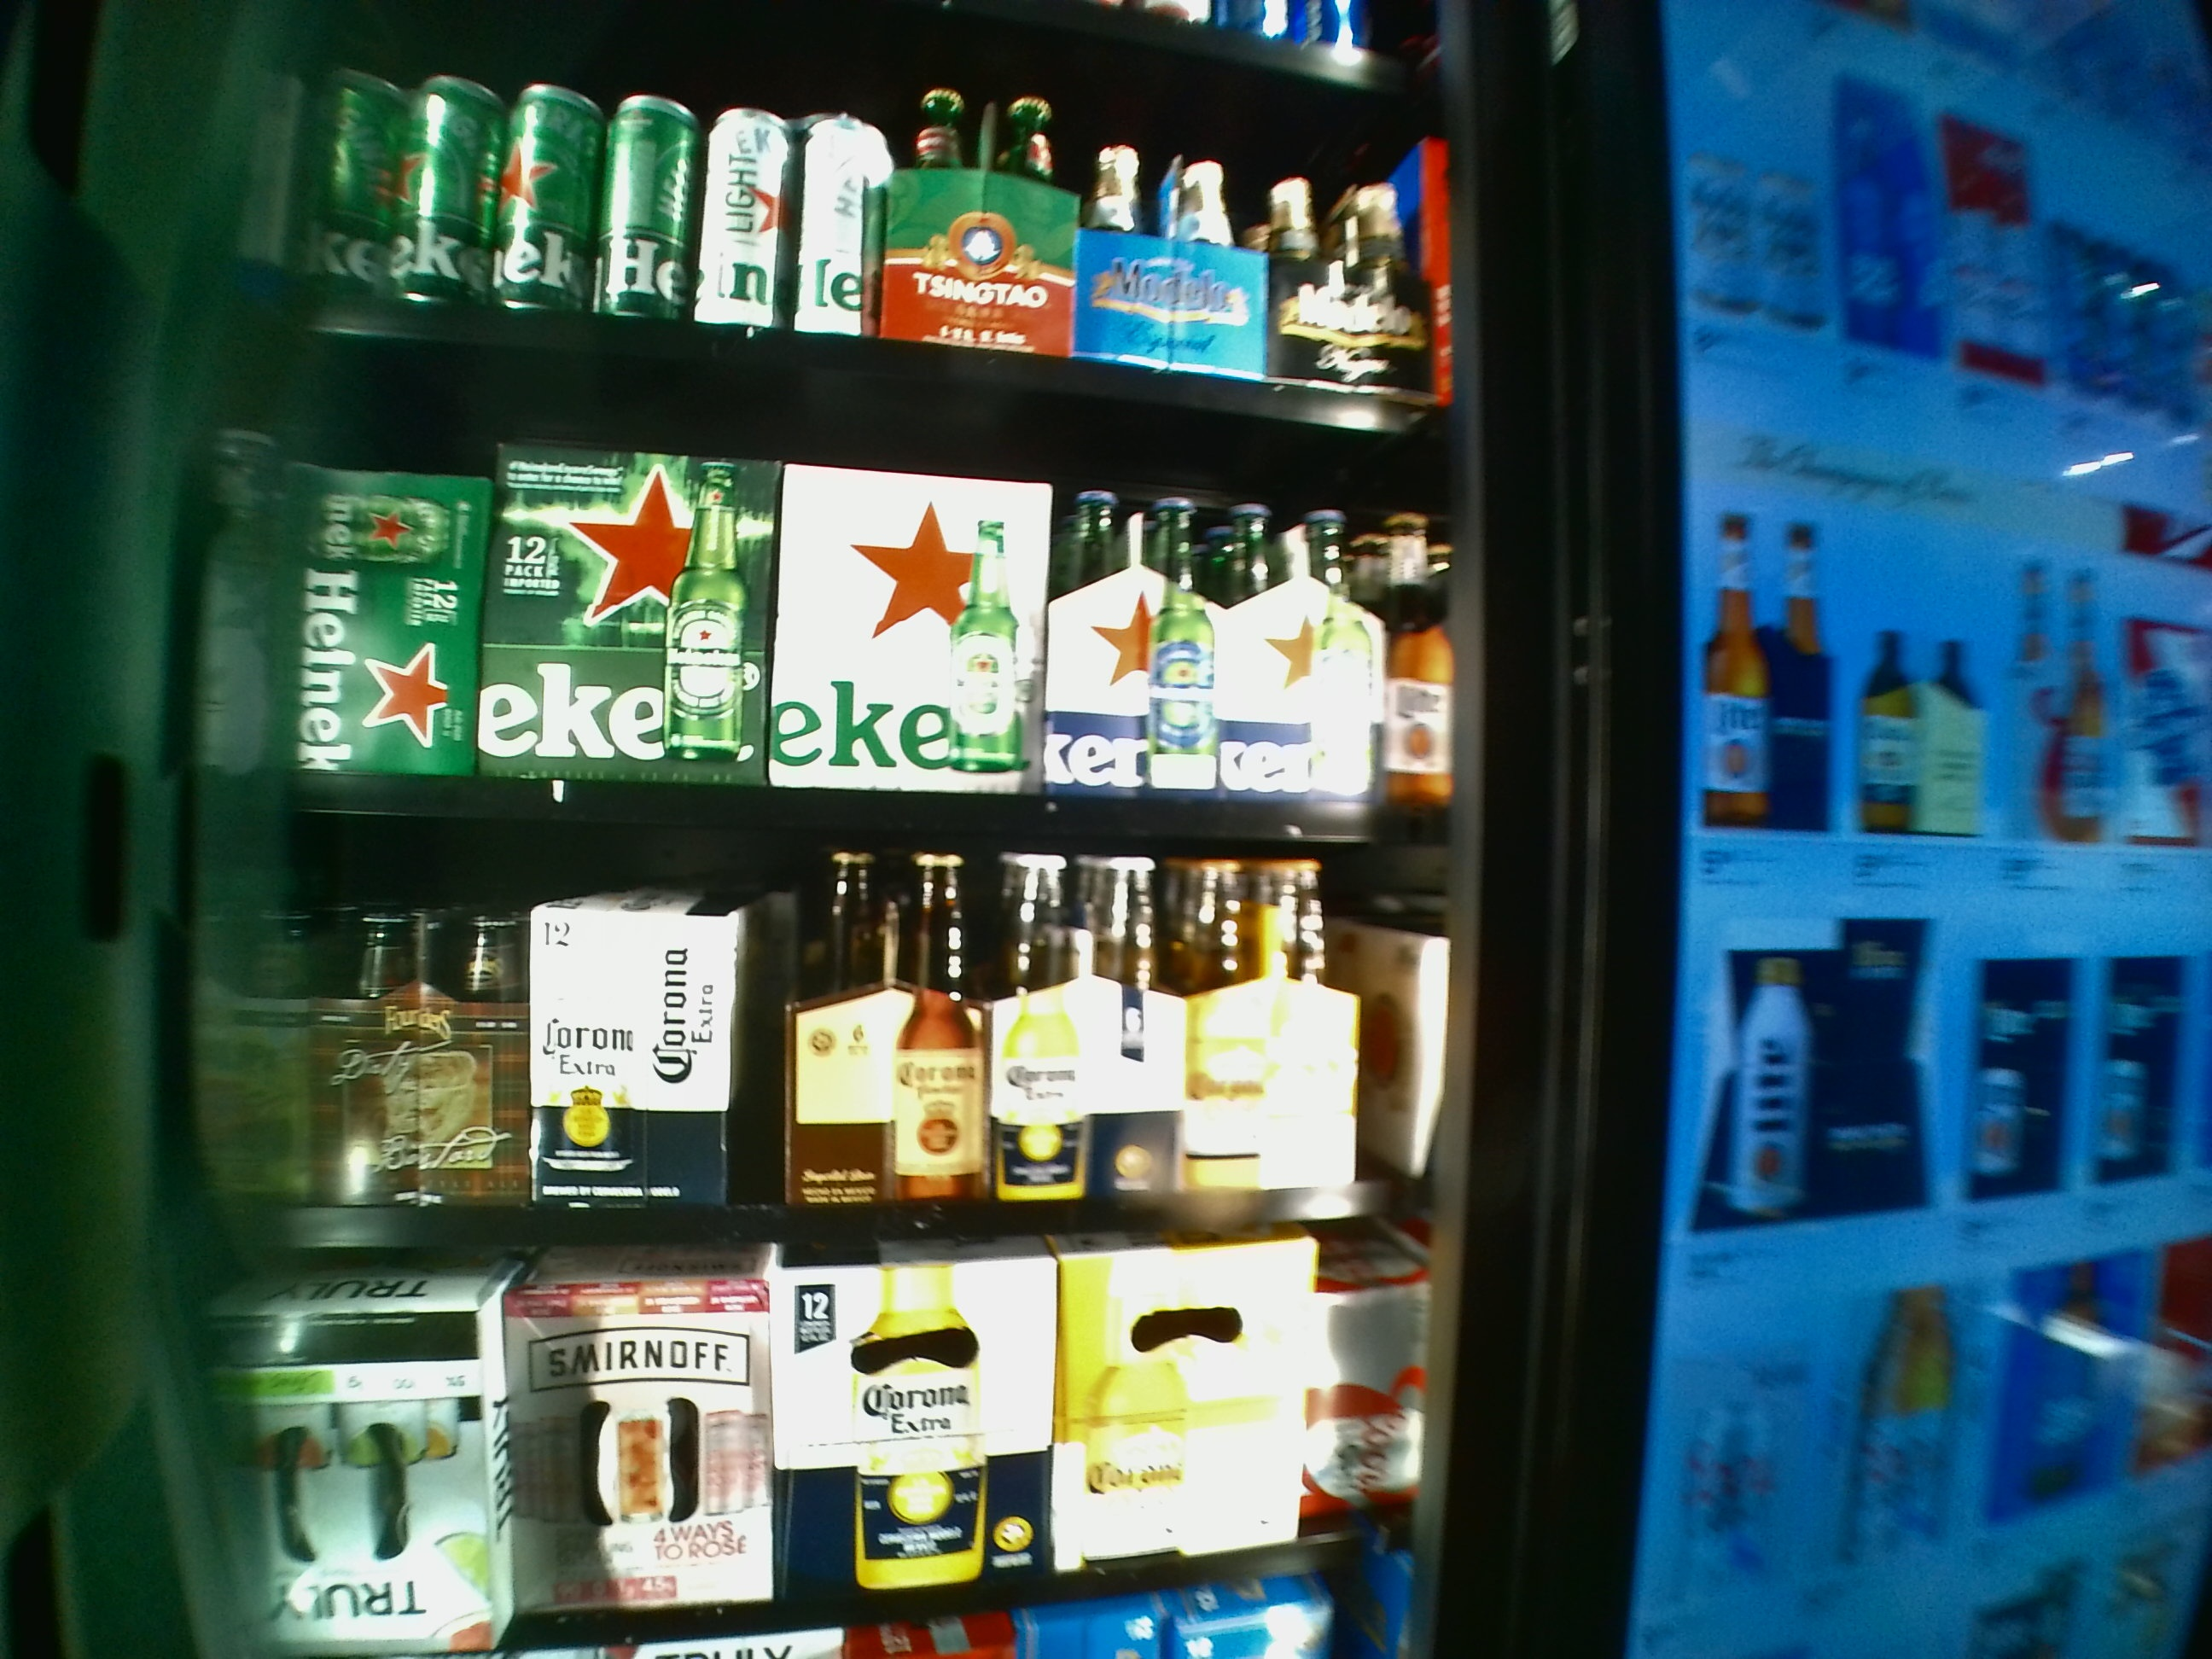shelf: (268, 340, 1453, 824), (265, 836, 1446, 1246)
